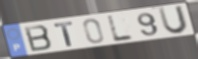0: (82, 17, 106, 44)
9: (136, 12, 159, 37)
B: (23, 24, 54, 53)
L: (107, 14, 136, 43)
T: (53, 21, 75, 48)
U: (157, 4, 190, 36)
